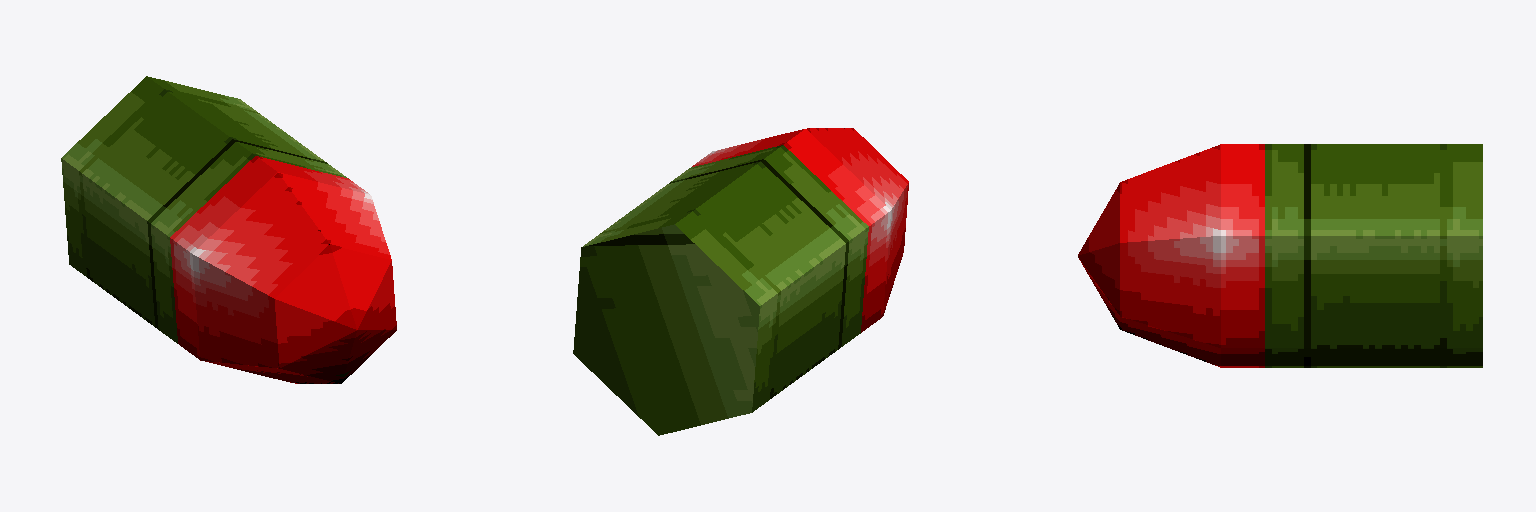
3 renders of one model, left to right at view 1: azimuth 30°, elevation 25°; view 2: azimuth 150°, elevation 25°; view 3: azimuth 270°, elevation 25°, orthographic.
Size of the model in its own units: 256 by 282 by 481.
Materials: 1 (1 with a texture image).